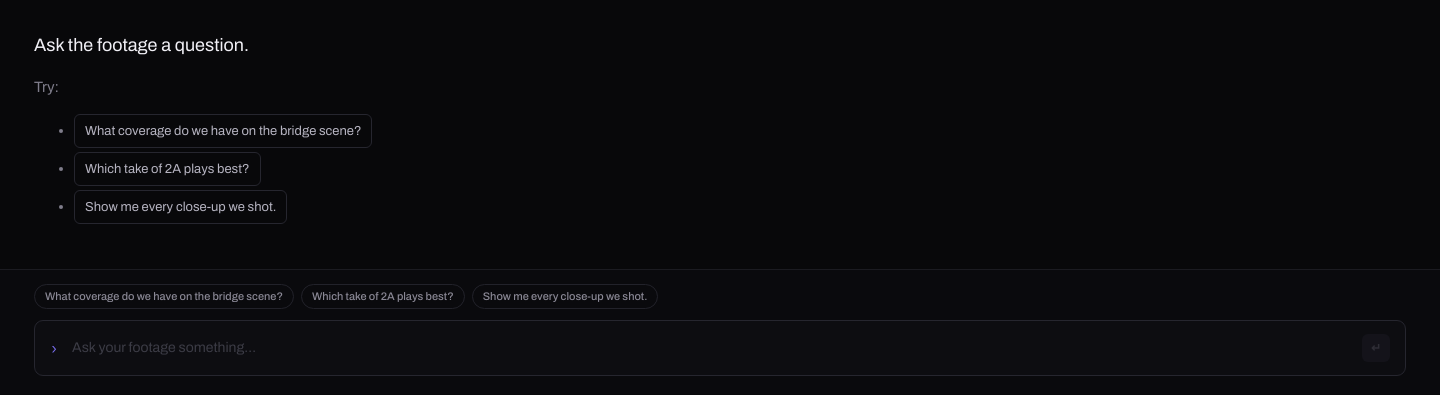
SessionView › renders the clarifying-question card with real slate options, never a fixed three
The width and height of the screenshot is (1440, 395).
Type "Dialogue in scene S03 take 3" into the text box labelled "Ask your footage something".
click(710, 348); type("Dialogue in scene S03 take 3")  # box x1=70 y1=336 x2=1350 y2=360
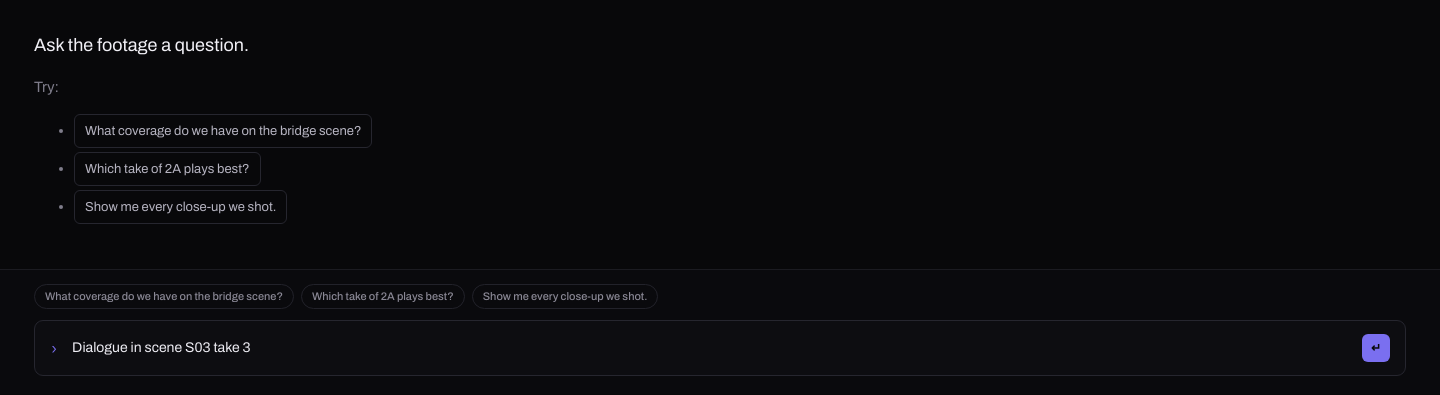
Press Enter in the text box named "Ask your footage something", box x1=70 y1=336 x2=1350 y2=360
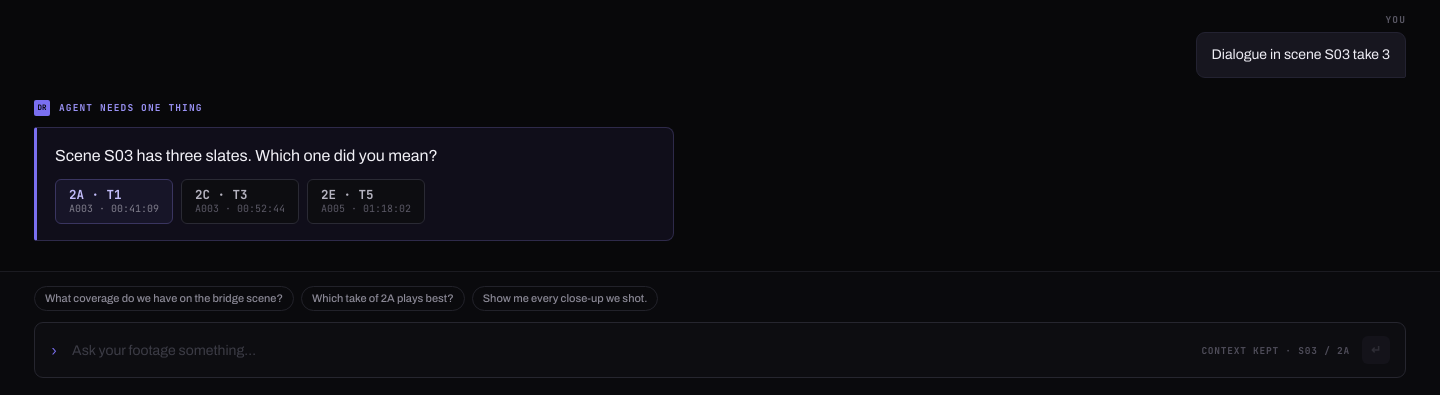
Expected: the text "AGENT NEEDS ONE THING" is shown, x1=59 y1=103 x2=203 y2=112
Expected: the text "Scene S03 has three slates. Which one did you mean?" is shown, x1=55 y1=147 x2=438 y2=164
Expected: the button "2A · T1 A003 · 00:41:09" is shown, x1=55 y1=179 x2=173 y2=224
